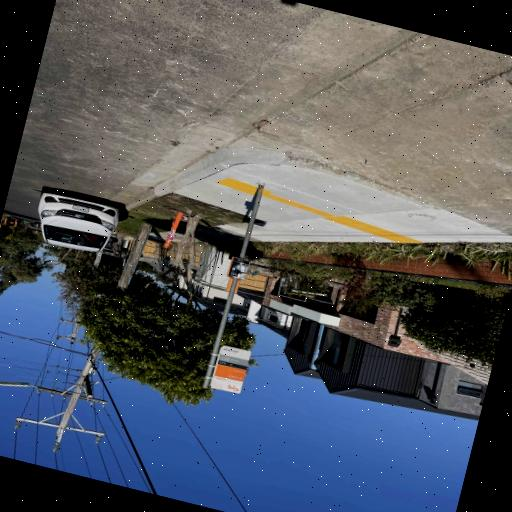signage: (204, 181, 265, 397)
